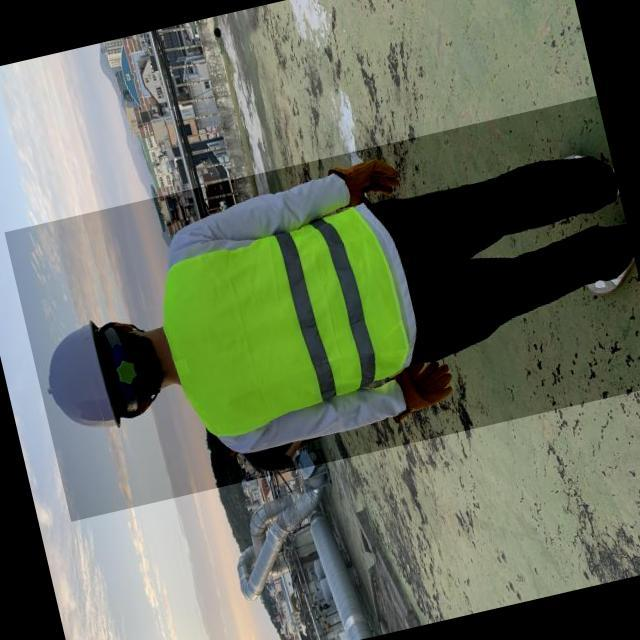Gloves: (328, 155, 415, 206), (393, 359, 466, 415)
Helmet: (30, 317, 130, 443)
Person: (23, 146, 640, 464)
Safety Vest: (150, 210, 427, 427)
